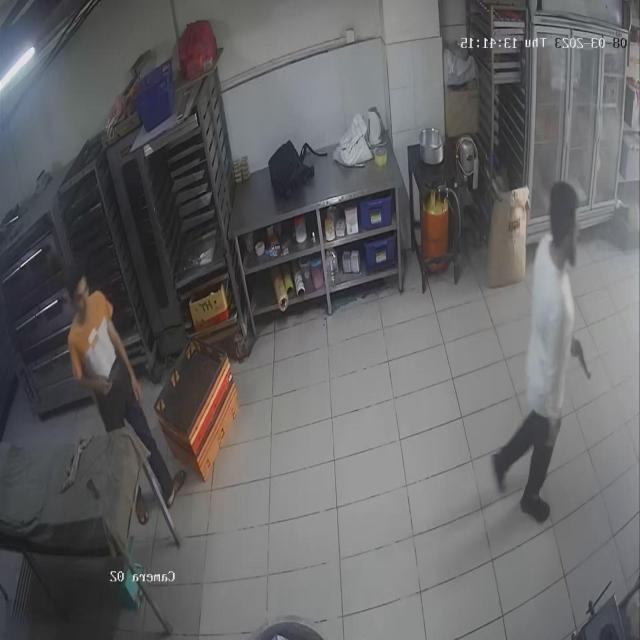Knife: (568, 331, 599, 387)
